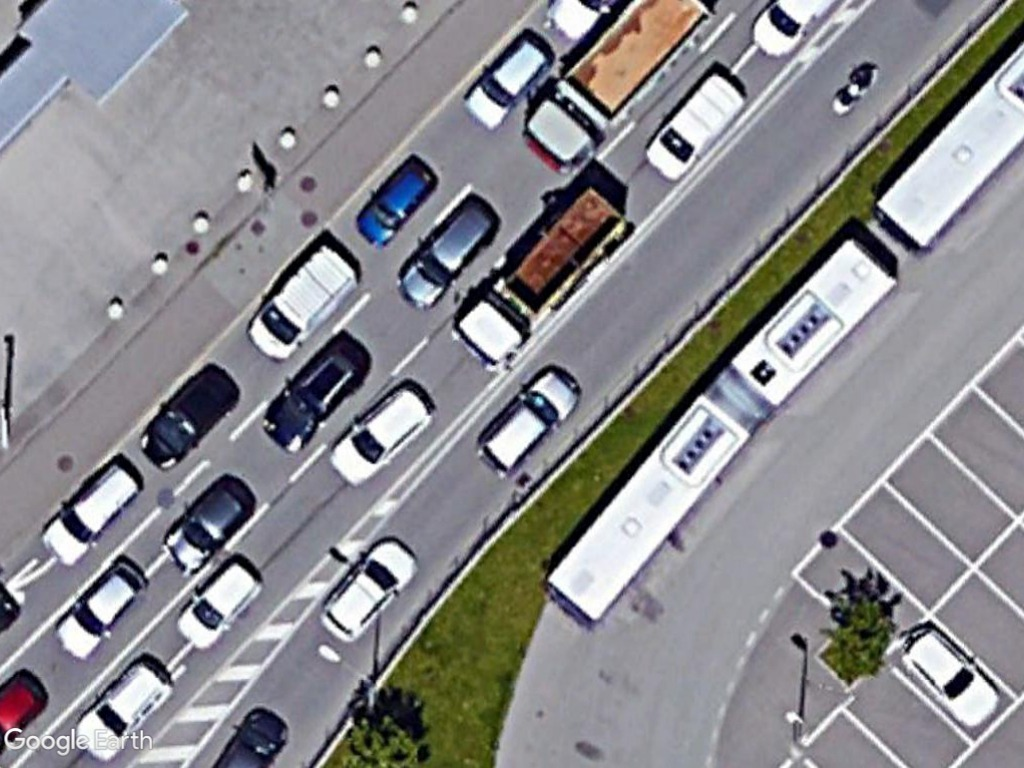bus: (524, 391, 755, 624), (729, 218, 905, 413)
car: (474, 357, 589, 480), (260, 336, 368, 456), (34, 453, 145, 569), (137, 354, 238, 480), (321, 527, 419, 650), (328, 374, 431, 489), (51, 547, 150, 666), (161, 464, 256, 583), (898, 623, 999, 730), (77, 653, 180, 757), (459, 28, 553, 138), (175, 547, 266, 657), (353, 154, 439, 248)
truck: (244, 228, 358, 368)
van: (394, 190, 497, 318), (643, 61, 745, 187)
